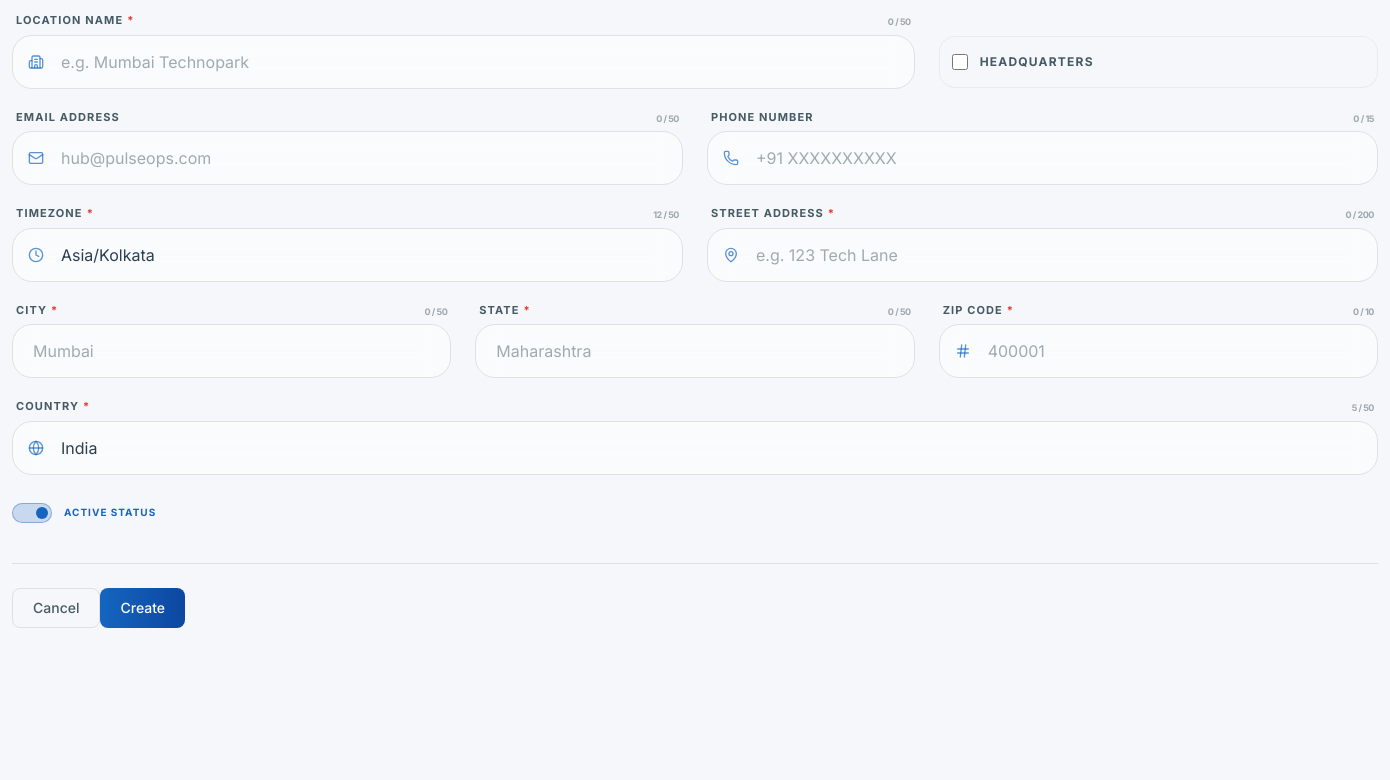
Scenario: LocationForm Component › shows validation error when required fields are missing
This screenshot has width=1390, height=780.
Click the button "Create": (143, 608) [100,588,185,628]
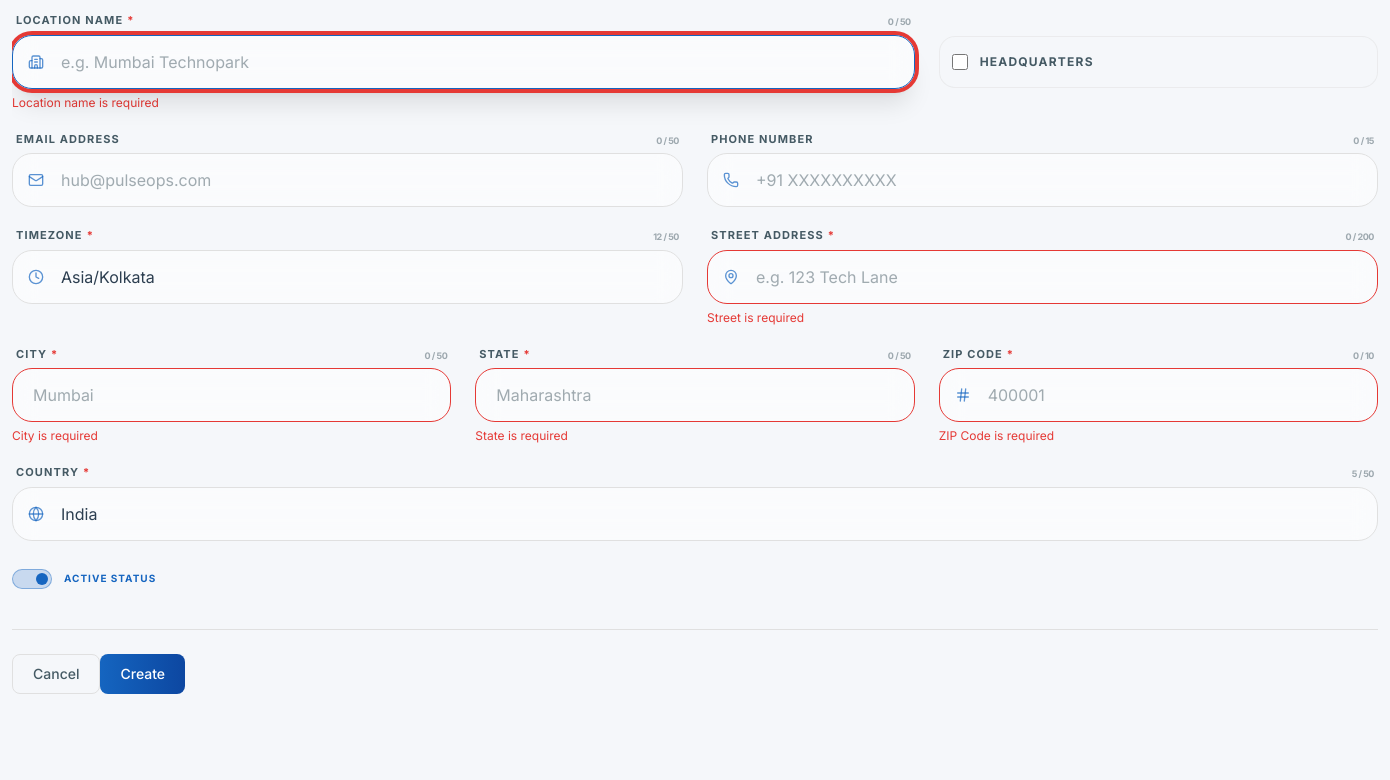
Check: the text "Location name is required" is shown, box [12,94,159,110]
Check: the text "Street is required" is shown, box [707,310,804,324]
Check: the text "City is required" is shown, box [12,428,98,443]
